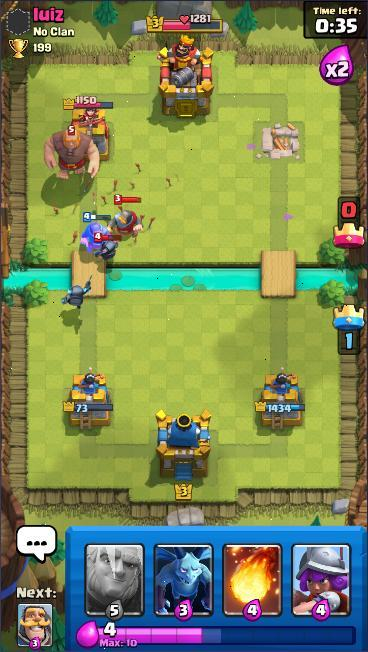EGiant: (46, 130, 97, 184)
EKingTower: (158, 41, 215, 118)
EKnight: (112, 193, 146, 239)
EMiniPeka: (96, 234, 119, 258)
EnemyPrincessTower: (67, 106, 114, 158)
OKnight: (77, 208, 107, 236)
OMiniPekka: (60, 274, 96, 312)
OwnKingTower: (154, 404, 218, 485)
OwnPrincessTower: (255, 363, 307, 423), (67, 372, 118, 423)
TowerDown: (254, 123, 302, 163)
